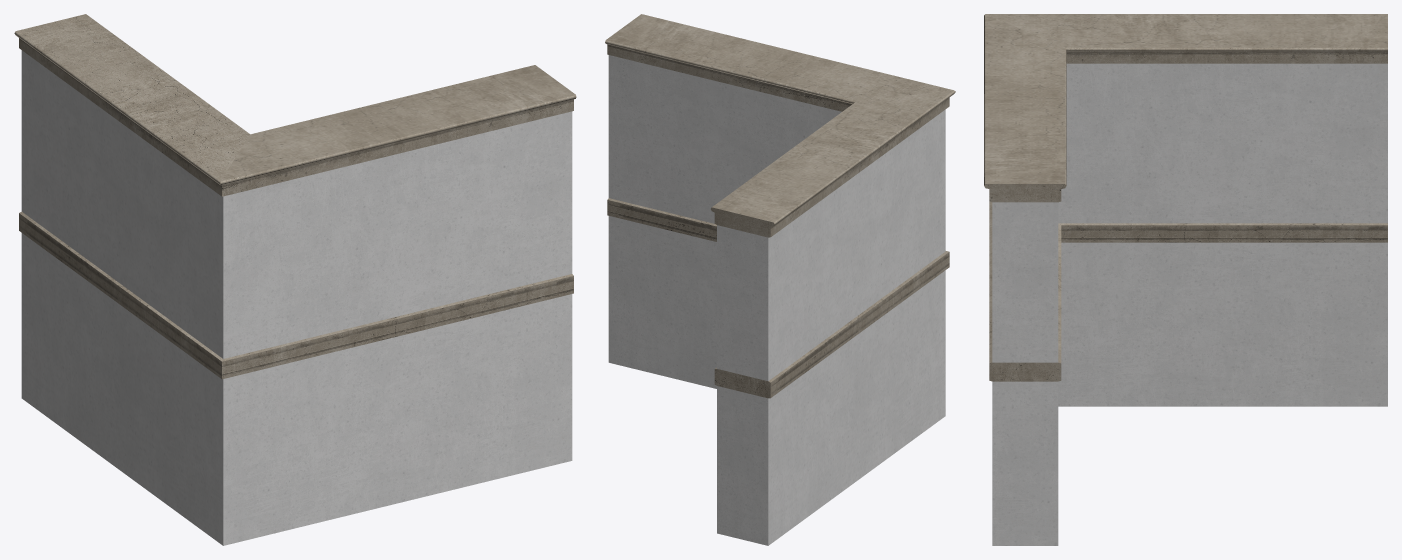
The model's file is MB_Fence_C_Angle.fbx.
3 renders of one model, left to right at view 1: azimuth 30°, elevation 25°; view 2: azimuth 150°, elevation 25°; view 3: azimuth 270°, elevation 25°, orthographic. The views are drawn at different scales.
Parts seen in each view (by area): view 1: MB_Fence_C_Angle; view 2: MB_Fence_C_Angle; view 3: MB_Fence_C_Angle.
Part boxes in pixels (x1=…): MB_Fence_C_Angle: x1=14, y1=14, x2=576, y2=545; MB_Fence_C_Angle: x1=605, y1=14, x2=955, y2=545; MB_Fence_C_Angle: x1=984, y1=14, x2=1387, y2=545.
Bounding box in the file's own units: 245 × 242 × 245.
